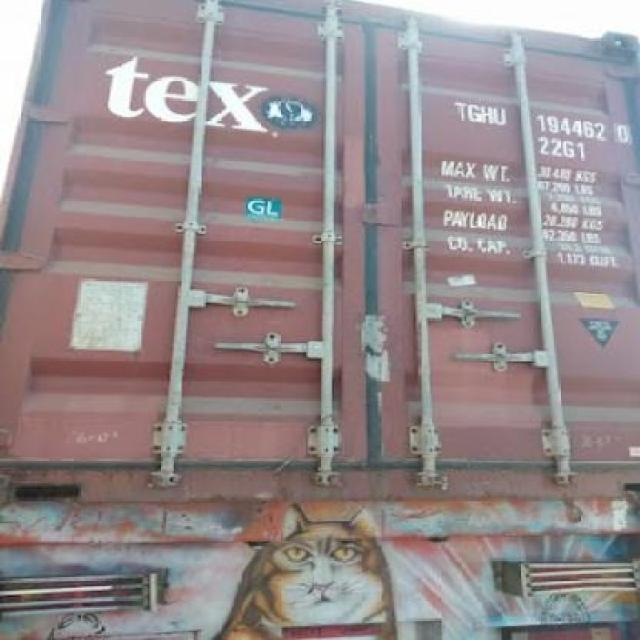ISO: (538, 138, 588, 160)
container_number: (461, 105, 631, 139)
